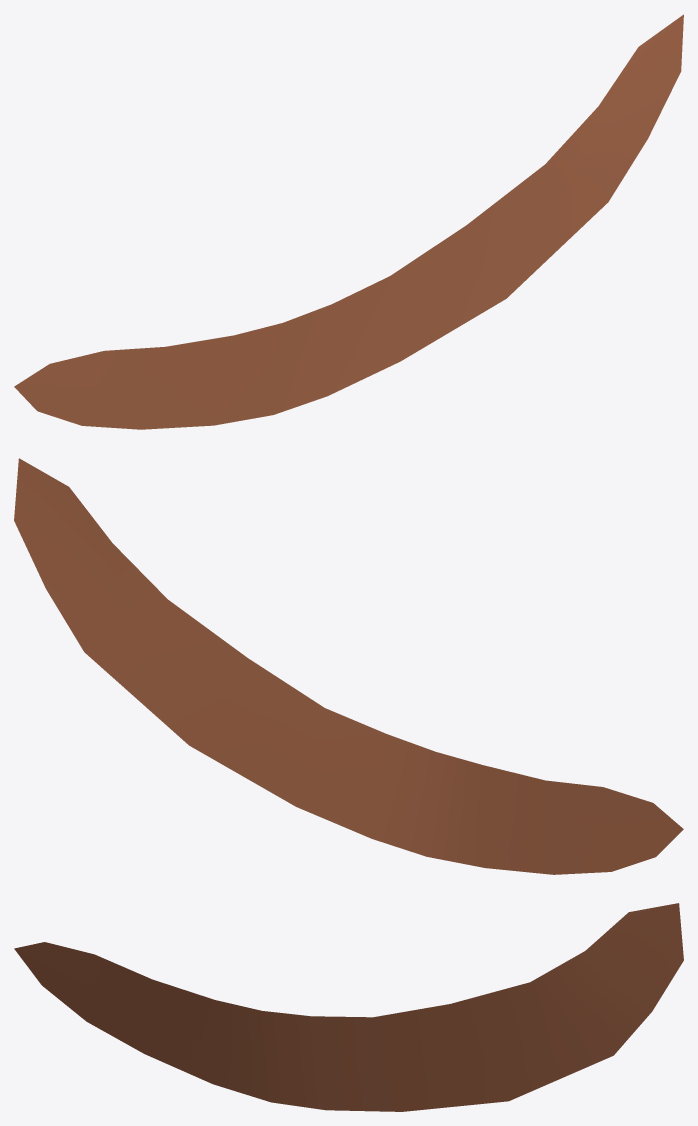
The model's file is Mouth_Yellow_3.fbx.
The picture shows the model from 3 angles, top to bottom: view 1: azimuth 30°, elevation 25°; view 2: azimuth 150°, elevation 25°; view 3: azimuth 330°, elevation 25°; orthographic projection.
Visible parts, largest first — view 1: Mouth_Yellow_3; view 2: Mouth_Yellow_3; view 3: Mouth_Yellow_3.
Boxes of the visible parts, bbox=[...] form: Mouth_Yellow_3: bbox=[14, 14, 683, 429]; Mouth_Yellow_3: bbox=[14, 458, 683, 874]; Mouth_Yellow_3: bbox=[14, 903, 683, 1111].
Bounding box in the file's own units: 7.03 × 3.01 × 0.2537.
